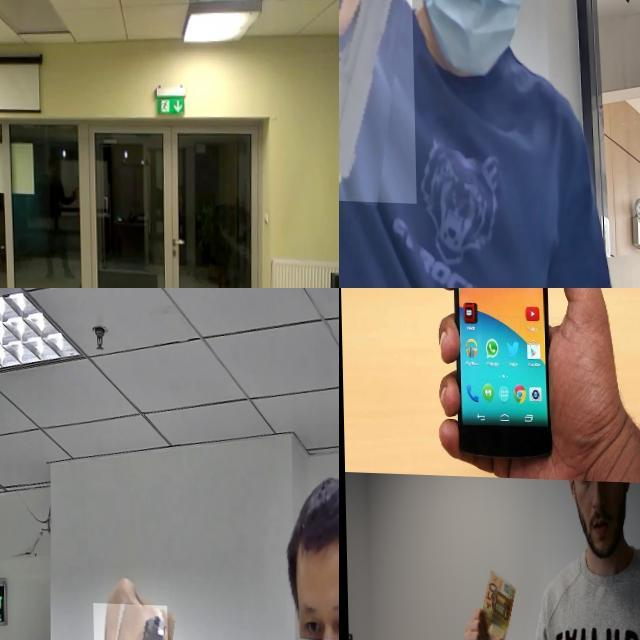gun-knife-thesis - v11 Yolov5 augmented: (339, 0, 415, 201), (0, 233, 21, 284)
